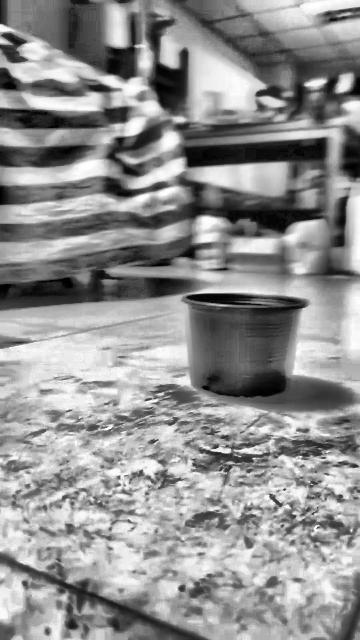pot: (180, 292, 307, 396)
